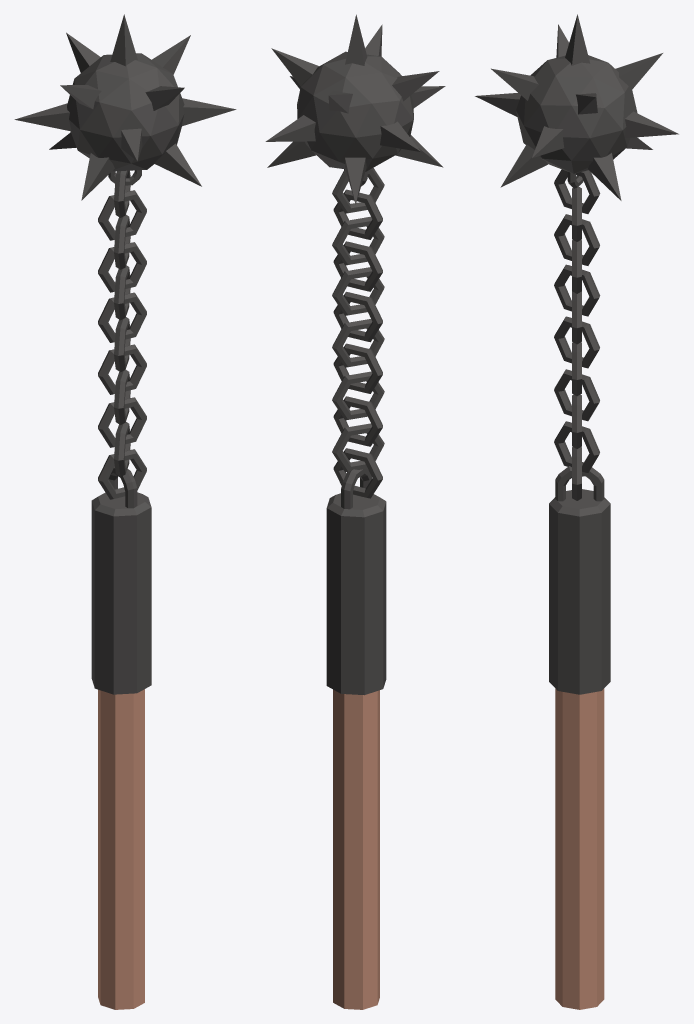
File: Flail.glb
3 renders of one model, left to right at view 1: azimuth 30°, elevation 25°; view 2: azimuth 150°, elevation 25°; view 3: azimuth 270°, elevation 25°, orthographic.
Visible parts, largest first — view 1: Flail; view 2: Flail; view 3: Flail.
Part boxes in pixels (x1,y1,x2,y2): Flail: [14, 14, 236, 1009]; Flail: [265, 14, 445, 1009]; Flail: [475, 14, 678, 1009].
Size of the model in its own units: 23.11 by 123 by 23.11.
